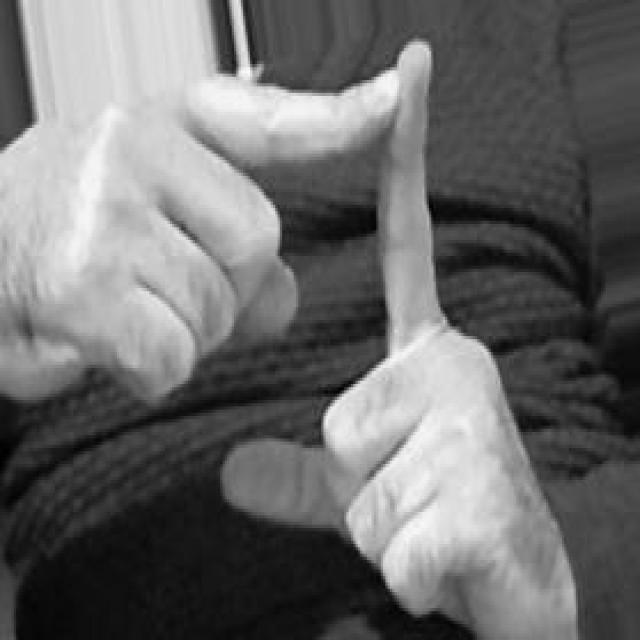J: (1, 38, 580, 640)
